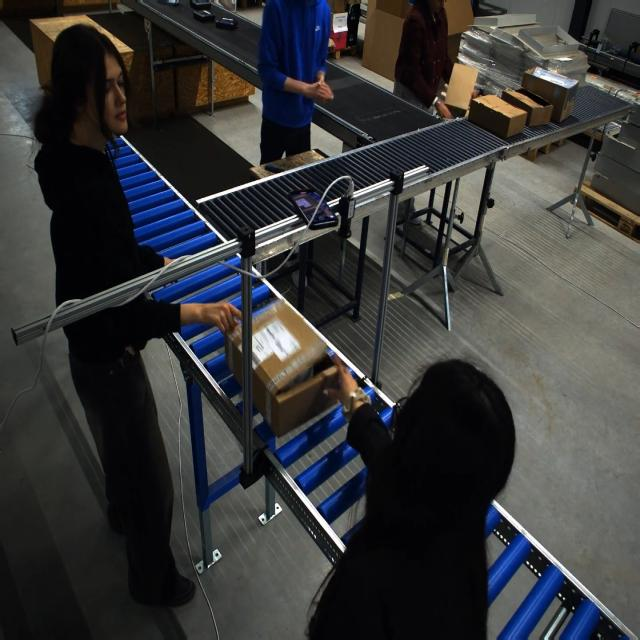box: (229, 298, 338, 433), (521, 66, 580, 124), (467, 94, 526, 139), (503, 87, 553, 128), (442, 62, 478, 118)
product: (216, 16, 238, 30), (192, 9, 215, 22), (190, 0, 212, 10)
